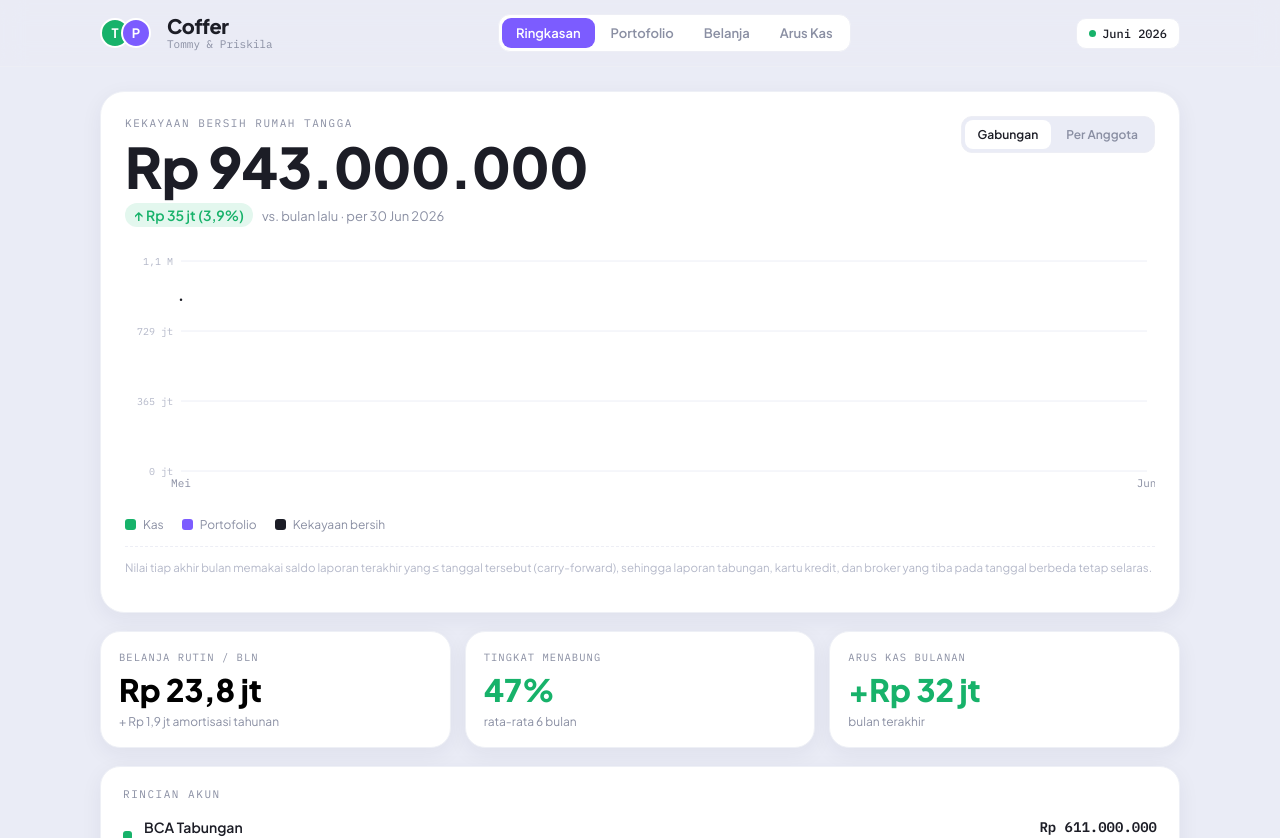
Test case: App / Ringkasan › switches to the Arus Kas tab and back
The width and height of the screenshot is (1280, 838).
Expected: the heading "Rp 943.000.000" is shown, [125,138,588,195]
Click the button "Arus Kas" at [806, 33], box [766,18,847,48]
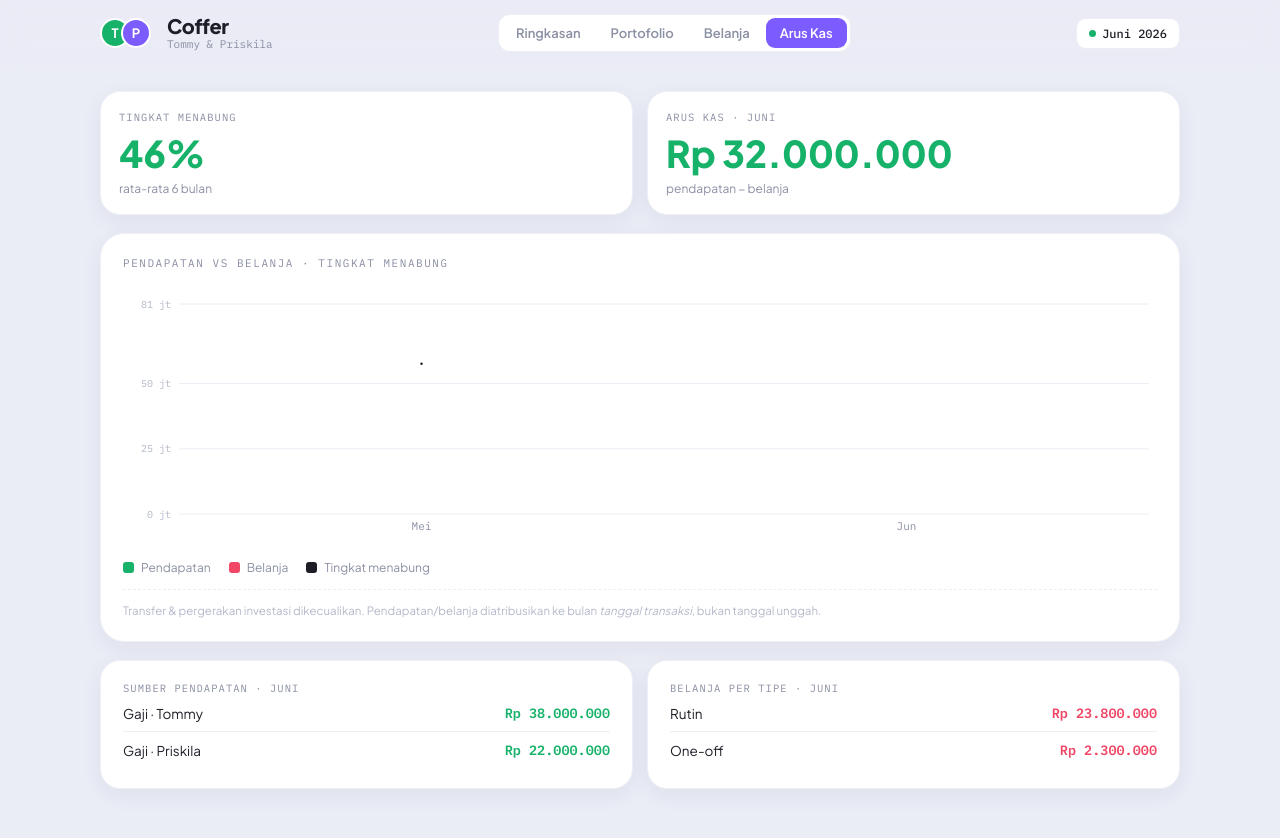
Expected: the text "Tingkat Menabung" is shown, [119,110,237,124]
Click the button "Ringkasan" at [548, 33], box [502,18,594,48]
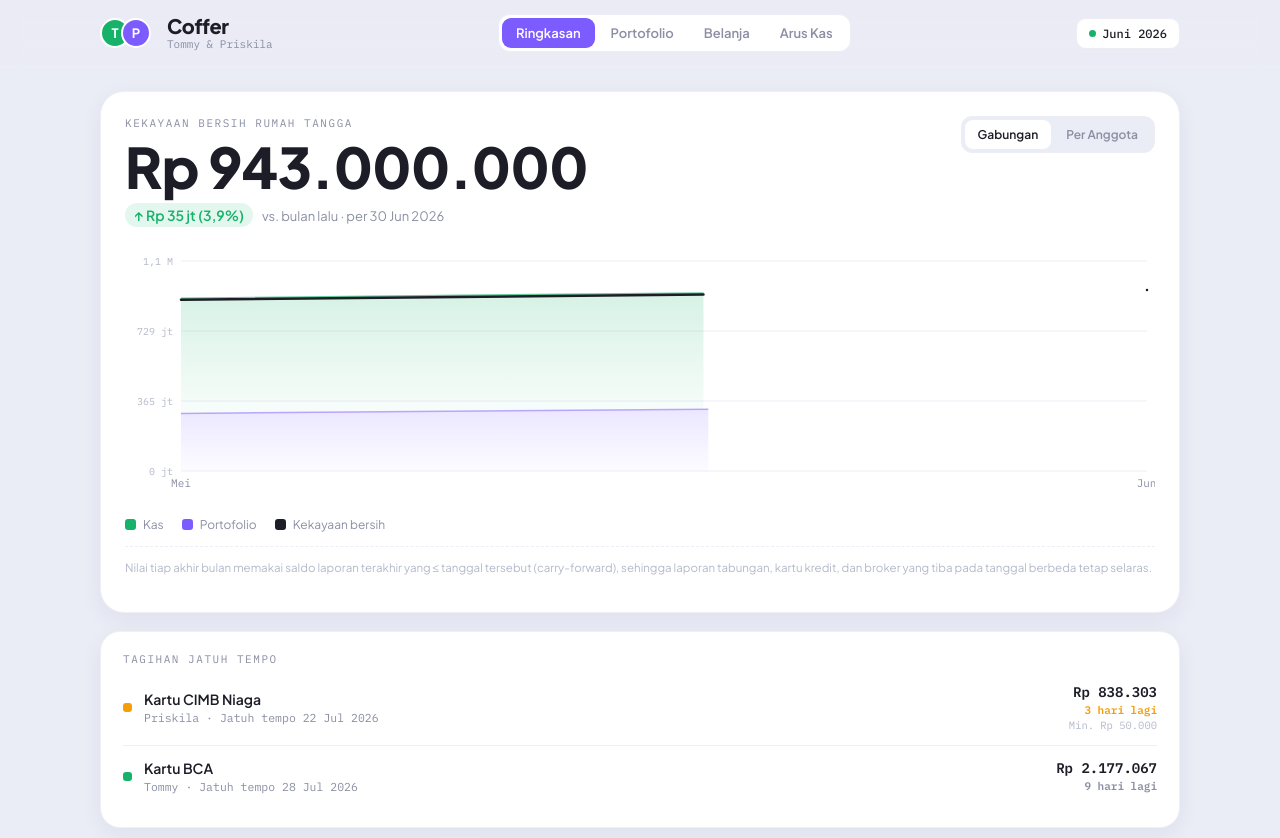
Result: the heading reads "Rp 943.000.000" at [125,131,588,201]
